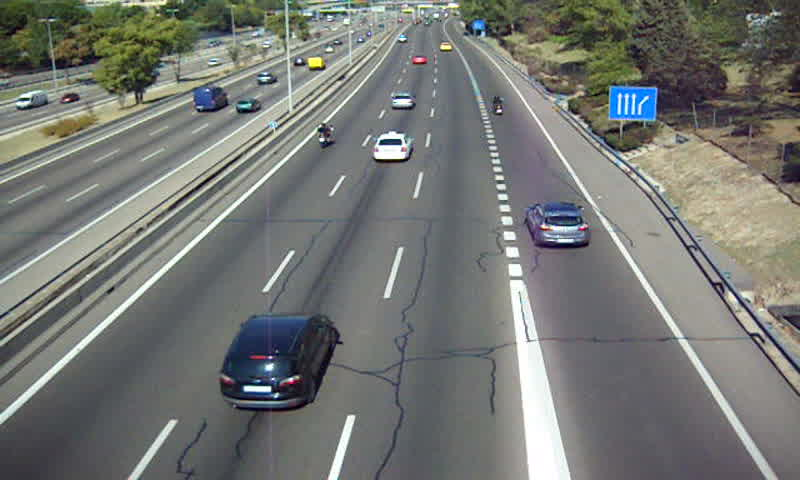car: (220, 315, 331, 409), (527, 202, 588, 246), (373, 132, 411, 161), (390, 92, 414, 110), (411, 54, 429, 66)
motorcycle: (316, 121, 334, 150), (491, 96, 505, 117)
